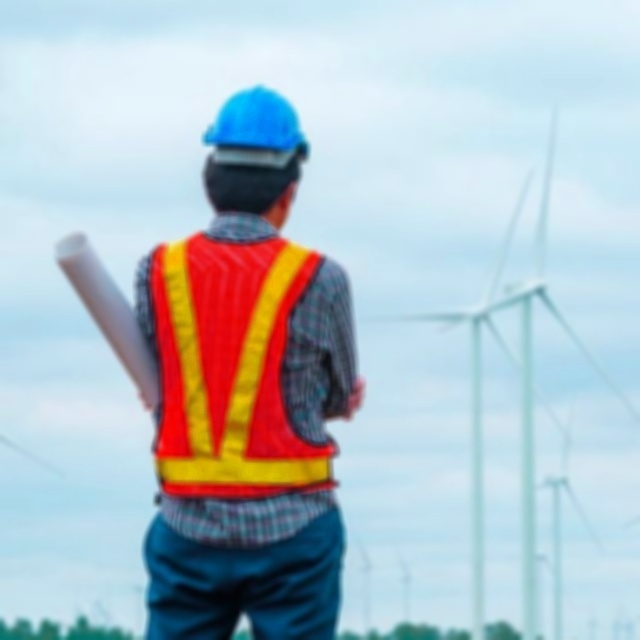Con_Casco: (199, 83, 312, 225)
Con_Chaleco: (145, 235, 336, 499)
